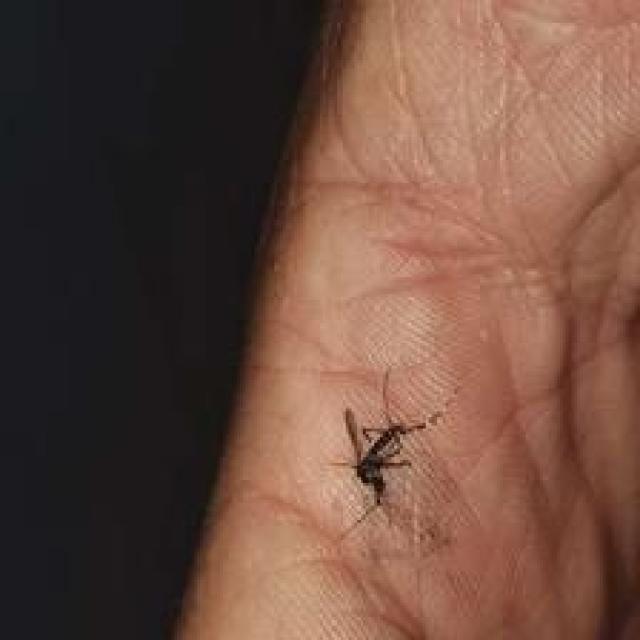Aedes albopictus: (327, 367, 453, 542)
